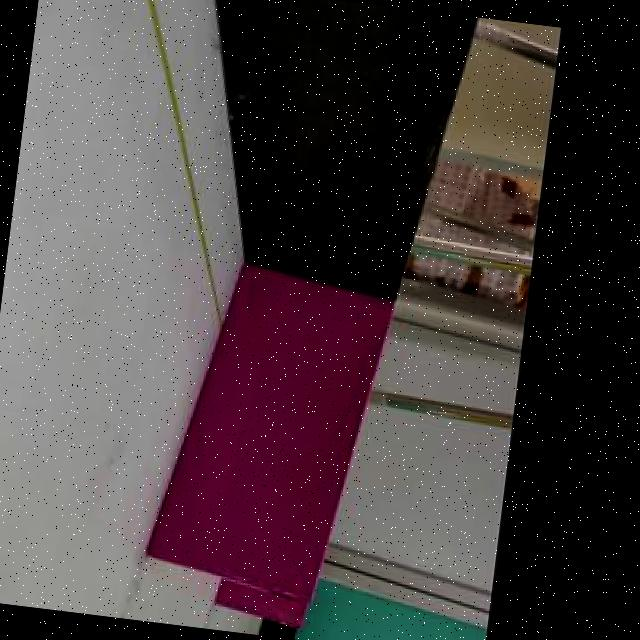xparking: (142, 263, 390, 604), (215, 581, 301, 628)
